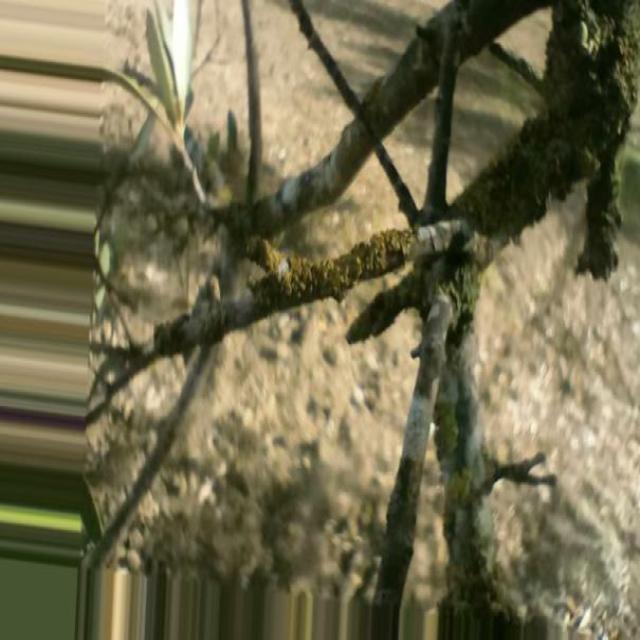Tuberculosis: (471, 0, 639, 278), (242, 230, 416, 326)
